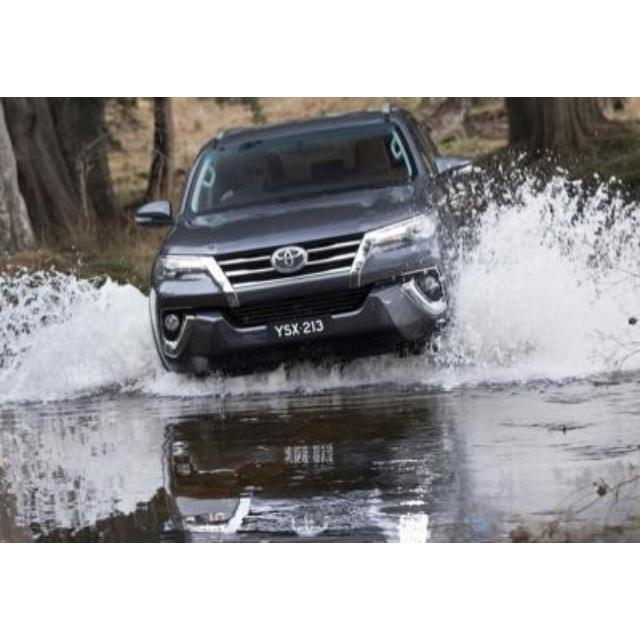car: (142, 104, 472, 380)
plate: (265, 315, 331, 343)
